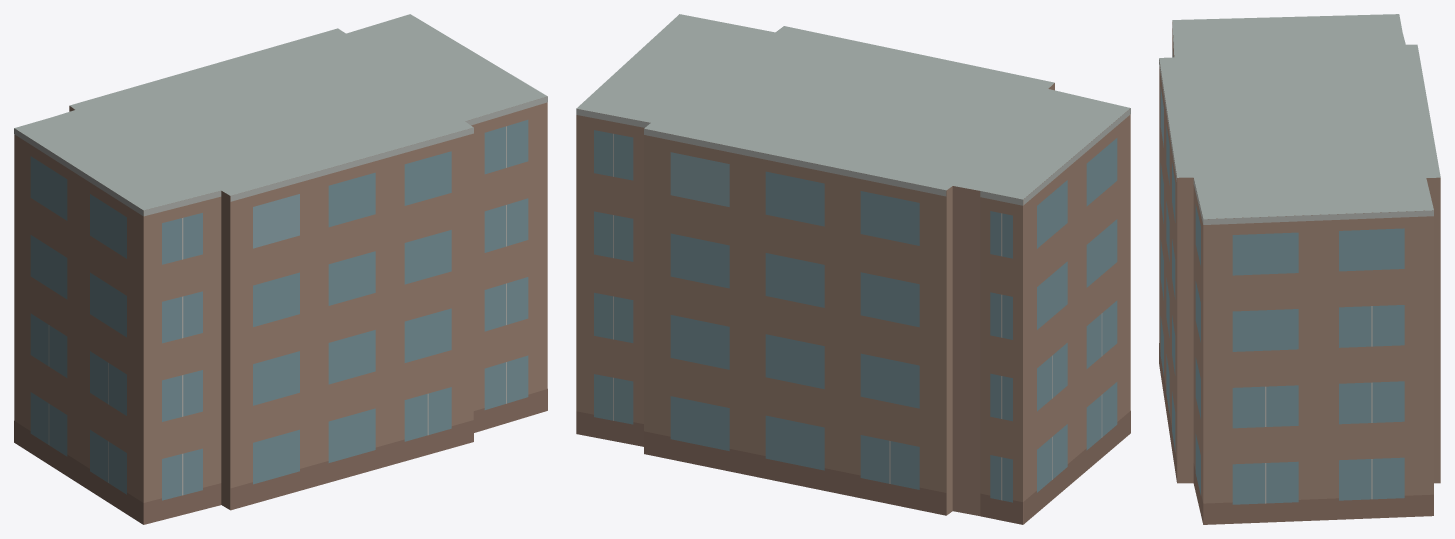
File: survey-upis-32966552.glb
3 renders of one model, left to right at view 1: azimuth 30°, elevation 25°; view 2: azimuth 150°, elevation 25°; view 3: azimuth 270°, elevation 25°, orthographic. The views are drawn at different scales.
Parts seen in each view (by area): view 1: survey-upis-32966552.tmp; view 2: survey-upis-32966552.tmp; view 3: survey-upis-32966552.tmp.
Boxes of the visible parts, left/top/right/bottom form: survey-upis-32966552.tmp: left=14, top=14, right=547, bottom=524; survey-upis-32966552.tmp: left=576, top=14, right=1130, bottom=524; survey-upis-32966552.tmp: left=1159, top=14, right=1440, bottom=524.
Bounding box in the file's own units: 18.45 × 12.8 × 10.7.
